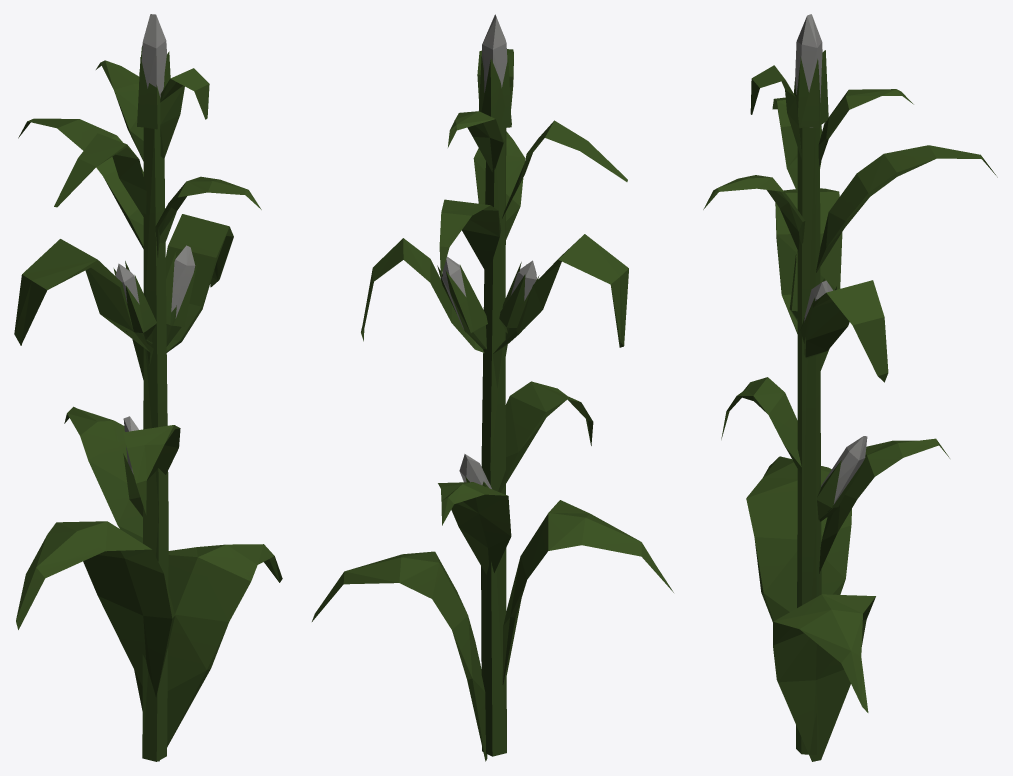
File: CornPlant_04.fbx
The picture shows the model from 3 angles, left to right: view 1: azimuth 30°, elevation 25°; view 2: azimuth 150°, elevation 25°; view 3: azimuth 270°, elevation 25°; orthographic projection.
Visible parts, largest first — view 1: CornPlant_04; view 2: CornPlant_04; view 3: CornPlant_04.
Boxes of the visible parts, x1,y1,x2,y2 form: CornPlant_04: (14,14,282,761); CornPlant_04: (312,14,673,761); CornPlant_04: (703,14,997,761).
Size of the model in its own units: 0.6024 by 1.38 by 0.4963.
